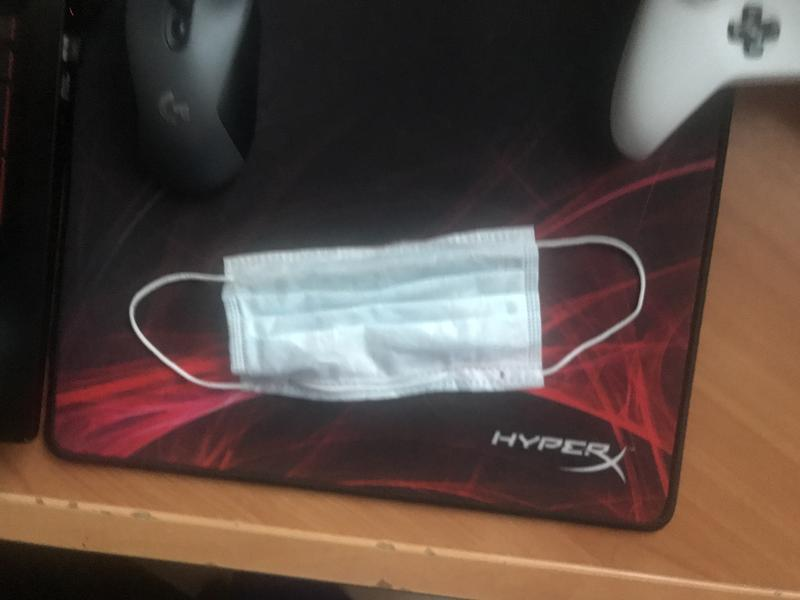medical_mask: (129, 226, 645, 401)
